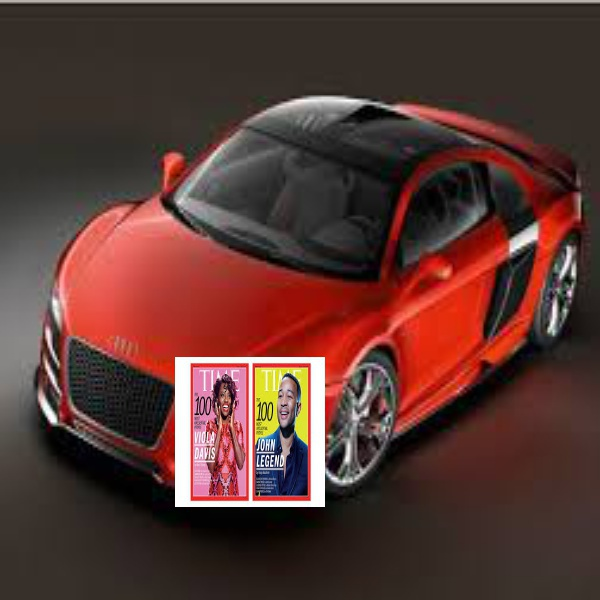time_cover: (189, 354, 297, 493), (189, 365, 255, 493)
